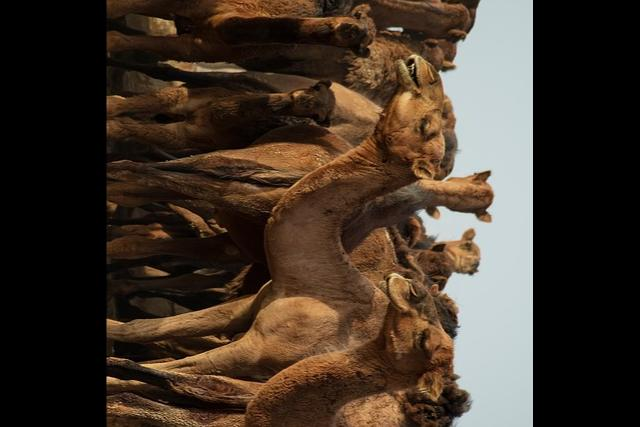Non_Gorille: (110, 0, 533, 427)
